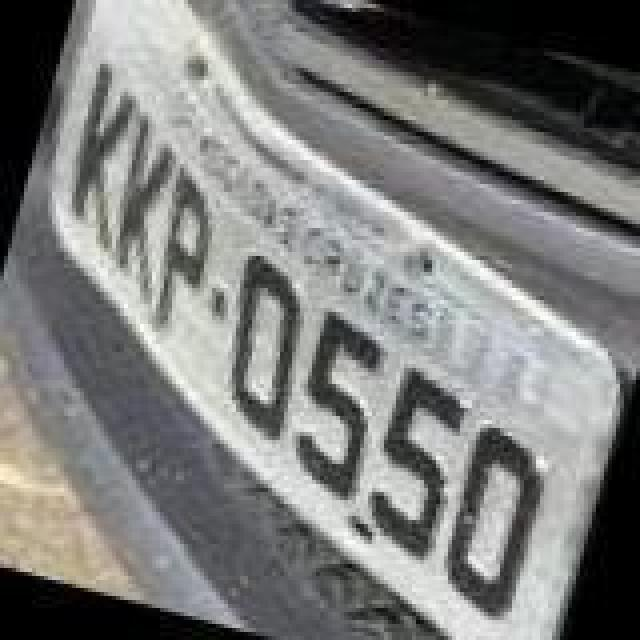5: (352, 362, 480, 566), (272, 308, 400, 508)
K: (86, 108, 202, 308), (48, 58, 160, 254)
O: (428, 414, 564, 626), (198, 246, 330, 442)
P: (136, 164, 232, 340)
